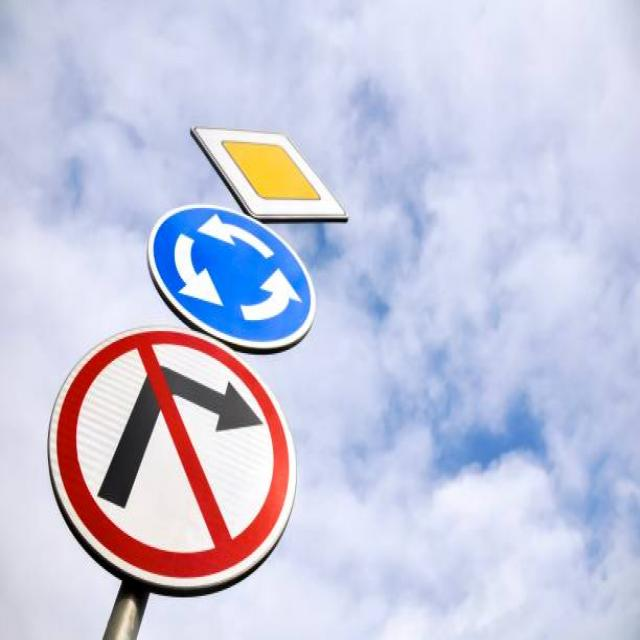round_about: (144, 201, 318, 353)
